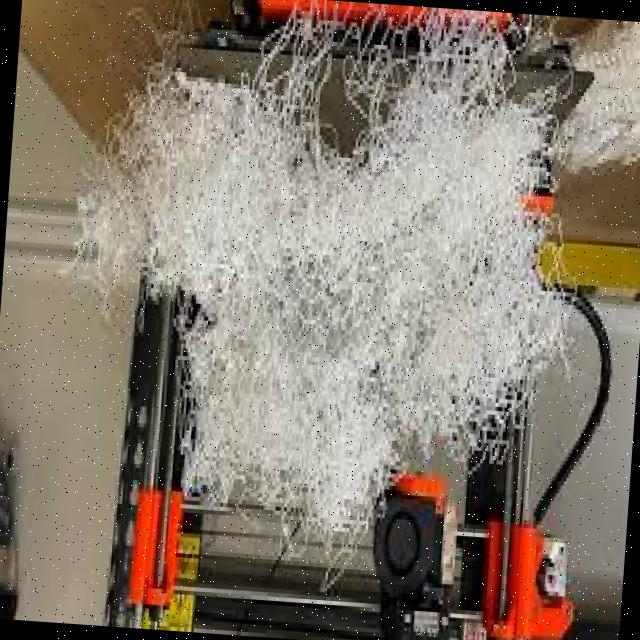spaghetti: (86, 32, 612, 520)
